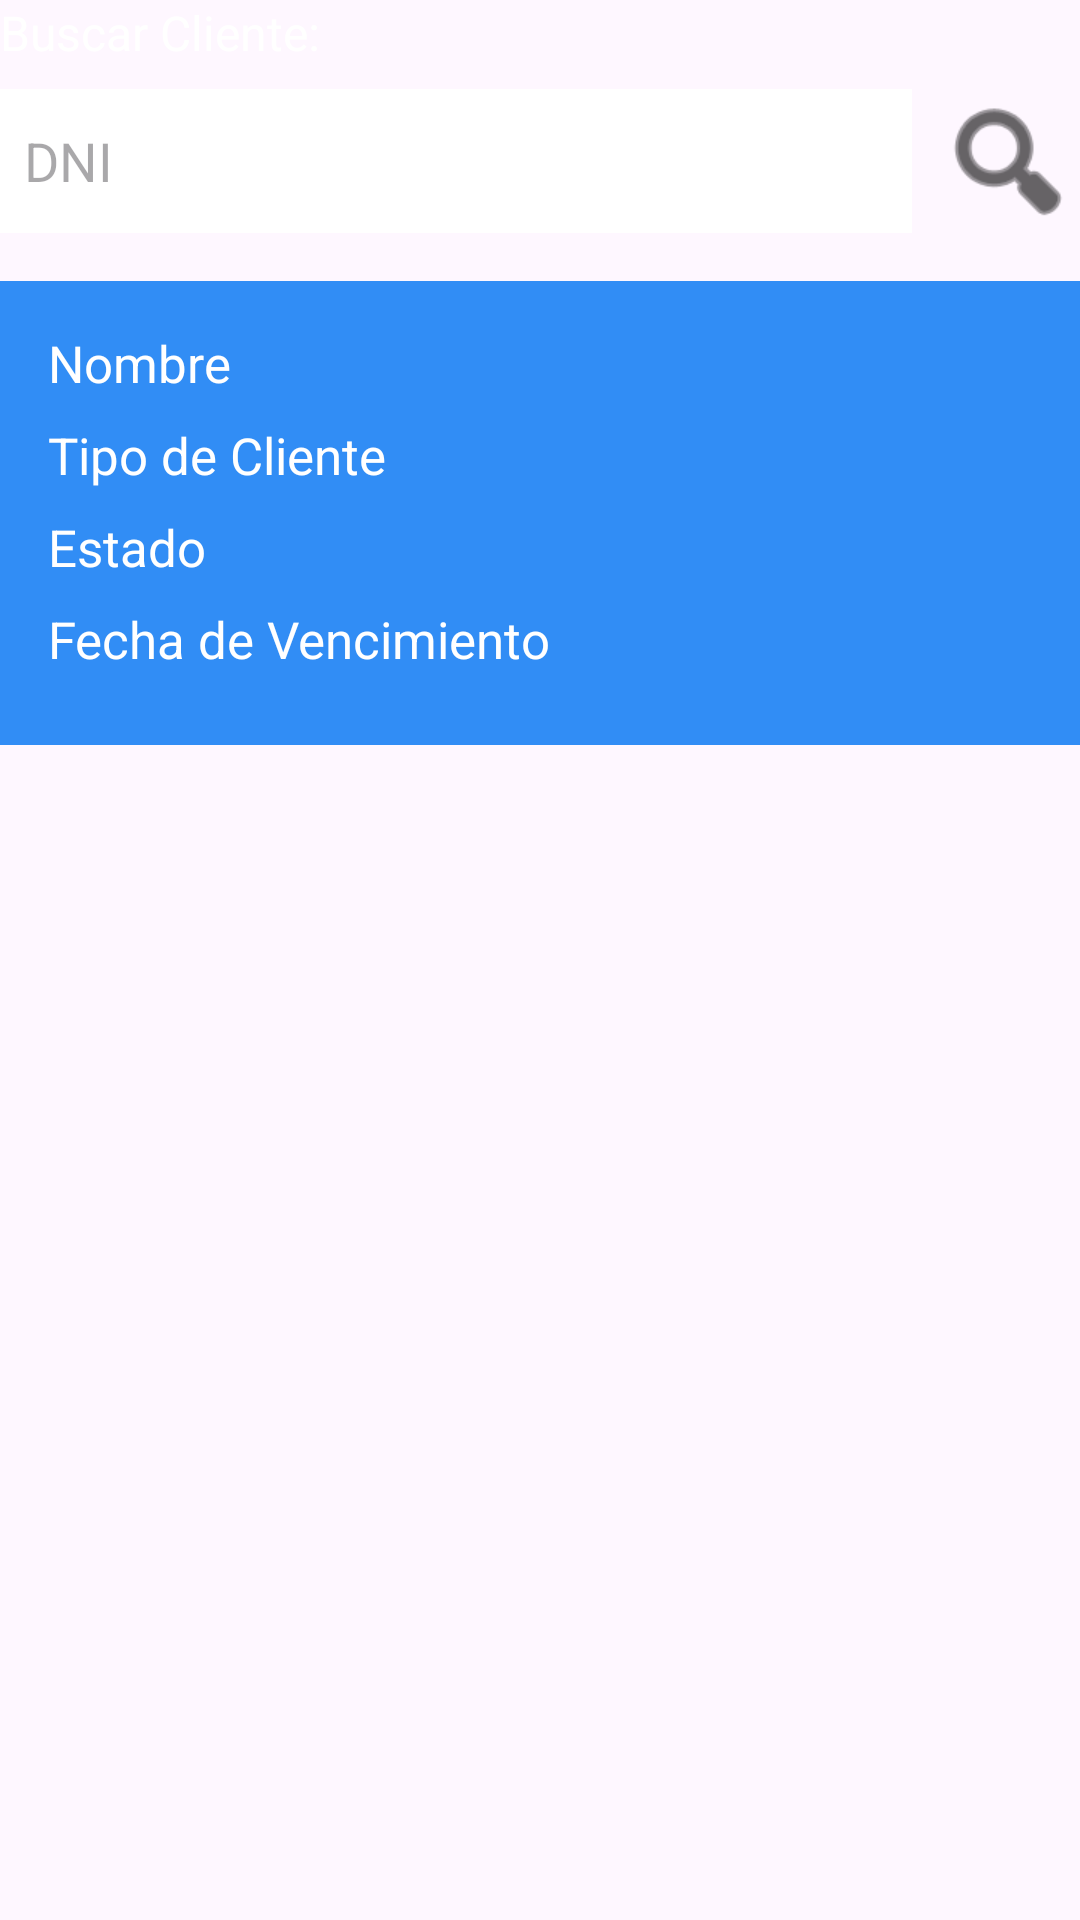

Named icons in this screenshot (1080 × 1920) and their bounding boxes, (x1, y1, x2, y2):
Buscar cliente: (955, 108, 1061, 215)
